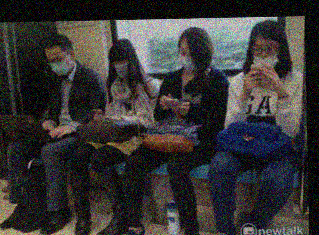mask_weared_incorrect: (251, 40, 278, 67)
with_mask: (44, 53, 74, 75), (177, 44, 197, 72), (111, 55, 131, 77)
